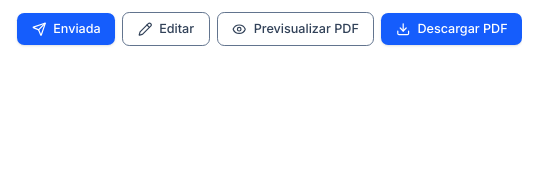
Test: QuotationDetailActions › muestra el Problem.detail del backend si el PDF falla
What coordinates should you click on to do the following:
click the button "Descargar PDF"
I would click on:
 (452, 29)
Its box is [381,13,522,45].
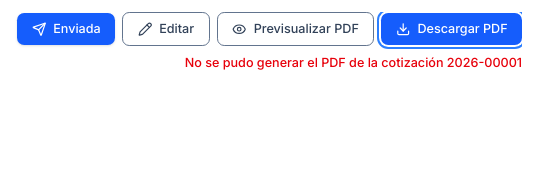
Expected: the message reads "No se pudo generar el PDF de la cotización 2026-00001", [185,54,522,70]
